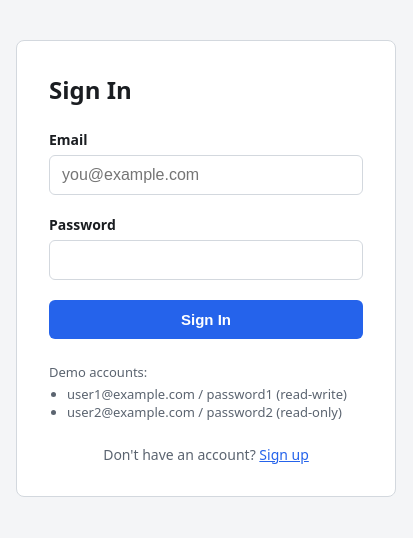
LoginPage › shows a message under each field when both are empty
Click the button "Sign In".
click(206, 319)  # box [49,300,363,338]
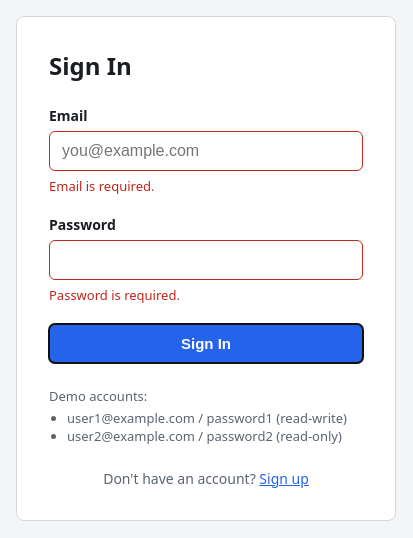
Now the text "Email is required." is shown, box [49,176,154,194]
Now the text "Password is required." is shown, box [49,286,180,304]
